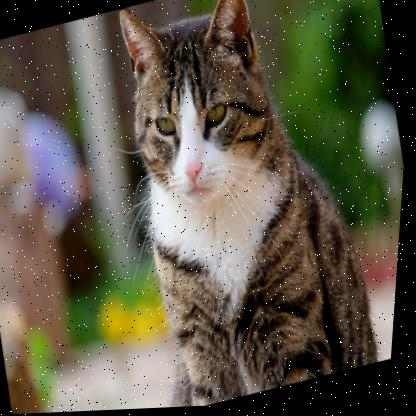cat: (88, 0, 404, 411)
